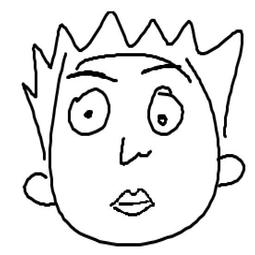cupid_mouth: (103, 185, 160, 219)
eye: (142, 79, 189, 139), (61, 86, 112, 140), (21, 169, 57, 209), (212, 154, 249, 190)
eyebrow: (62, 69, 119, 81)
frowning_eyebrow: (140, 62, 184, 75)
nose: (114, 132, 154, 170)
